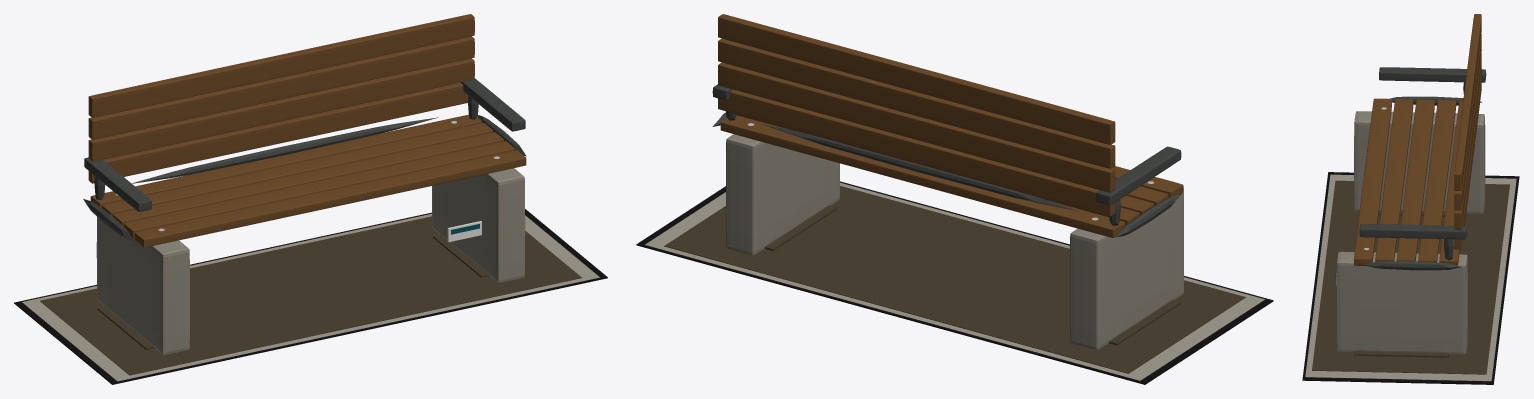
The model's file is hm_prop_bench_v2.obj.
3 renders of one model, left to right at view 1: azimuth 30°, elevation 25°; view 2: azimuth 150°, elevation 25°; view 3: azimuth 270°, elevation 25°, orthographic. The views are drawn at different scales.
Visible parts, largest first — view 1: hm_prop_bench_v2_Dirt, Bench_Back_3, Bench_Leg_-1, Bench_Back_2, Bench_Back_1, Bench_Back_0, Bench_Leg_1, Bench_Seat_0, hm_prop_bench_v2_SaltRing, Bench_Seat_1, Bench_Seat_2, Bench_Seat_3 (+8 smaller); view 2: hm_prop_bench_v2_Dirt, Bench_Leg_-1, Bench_Back_3, Bench_Leg_1, Bench_Back_2, Bench_Back_1, Bench_Back_0, Bench_Seat_4, hm_prop_bench_v2_SaltRing, hm_prop_bench_v2_Shadow, Bench_Rail, Bench_Arm_-1 (+4 smaller); view 3: hm_prop_bench_v2_Dirt, Bench_Leg_1, hm_prop_bench_v2_SaltRing, Bench_Leg_-1, Bench_Seat_0, Bench_Seat_1, Bench_Seat_3, Bench_Seat_2, hm_prop_bench_v2_Shadow, Bench_Back_3, Bench_Arm_1, Bench_Arm_-1 (+8 smaller).
Part boxes in pixels (x1,y1,x2,y2): hm_prop_bench_v2_Dirt: [40, 216, 581, 375]; Bench_Back_3: [88, 14, 474, 117]; Bench_Leg_-1: [96, 217, 189, 354]; Bench_Back_2: [88, 36, 474, 139]; Bench_Back_1: [88, 58, 474, 161]; Bench_Back_0: [88, 82, 468, 183]; Bench_Leg_1: [432, 168, 525, 282]; Bench_Seat_0: [134, 150, 526, 247]; hm_prop_bench_v2_SaltRing: [22, 213, 599, 381]; Bench_Seat_1: [123, 141, 515, 238]; Bench_Seat_2: [112, 132, 504, 226]; Bench_Seat_3: [101, 123, 493, 216]; hm_prop_bench_v2_Dirt: [664, 186, 1245, 373]; Bench_Leg_-1: [1070, 178, 1183, 349]; Bench_Back_3: [718, 14, 1115, 144]; Bench_Leg_1: [726, 134, 839, 255]; Bench_Back_2: [718, 38, 1115, 168]; Bench_Back_1: [718, 62, 1115, 192]; Bench_Back_0: [718, 89, 1115, 216]; Bench_Seat_4: [720, 115, 1125, 237]; hm_prop_bench_v2_SaltRing: [645, 182, 1264, 380]; hm_prop_bench_v2_Shadow: [636, 181, 1273, 384]; Bench_Rail: [761, 124, 1078, 211]; Bench_Arm_-1: [1096, 146, 1181, 205]; hm_prop_bench_v2_Dirt: [1312, 180, 1509, 374]; Bench_Leg_1: [1336, 251, 1467, 354]; hm_prop_bench_v2_SaltRing: [1305, 174, 1516, 381]; Bench_Leg_-1: [1354, 111, 1485, 213]; Bench_Seat_0: [1354, 98, 1391, 265]; Bench_Seat_1: [1375, 99, 1413, 261]; Bench_Seat_3: [1418, 100, 1456, 262]; Bench_Seat_2: [1396, 99, 1434, 261]; hm_prop_bench_v2_Shadow: [1302, 172, 1519, 384]; Bench_Back_3: [1454, 14, 1481, 190]; Bench_Arm_1: [1359, 224, 1466, 239]; Bench_Arm_-1: [1379, 67, 1486, 82].
Size of the model in its own units: 2.11 by 0.8639 by 0.9122.
